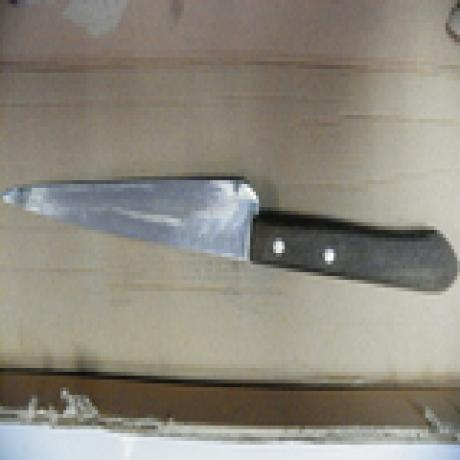weapon: (2, 174, 460, 294)
